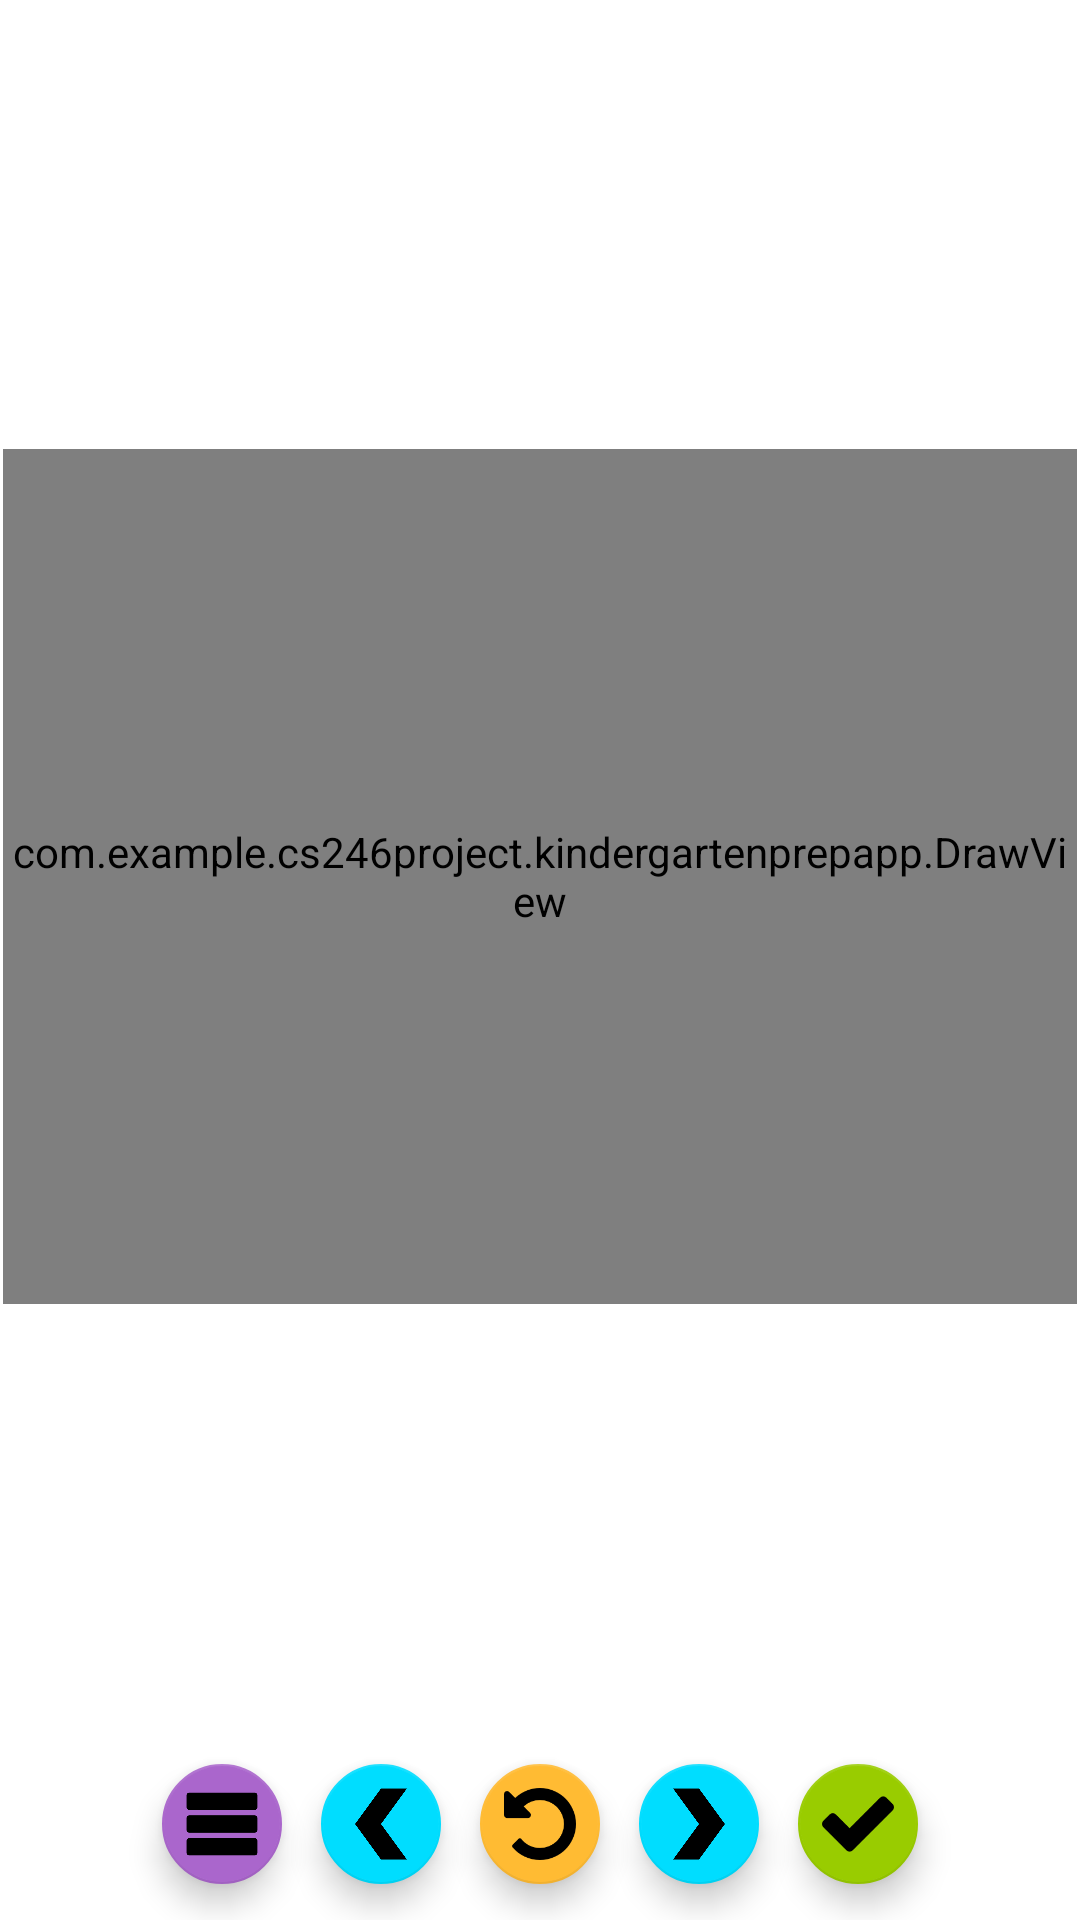

Icon bounding boxes for this 1080 × 1920 phone screenshot, format (x1, y1, x2, y2):
arrow left: (321, 1764, 441, 1896)
arrow right: (639, 1764, 760, 1896)
check: (798, 1764, 920, 1896)
clear: (480, 1764, 600, 1896)
menu: (161, 1764, 282, 1896)
